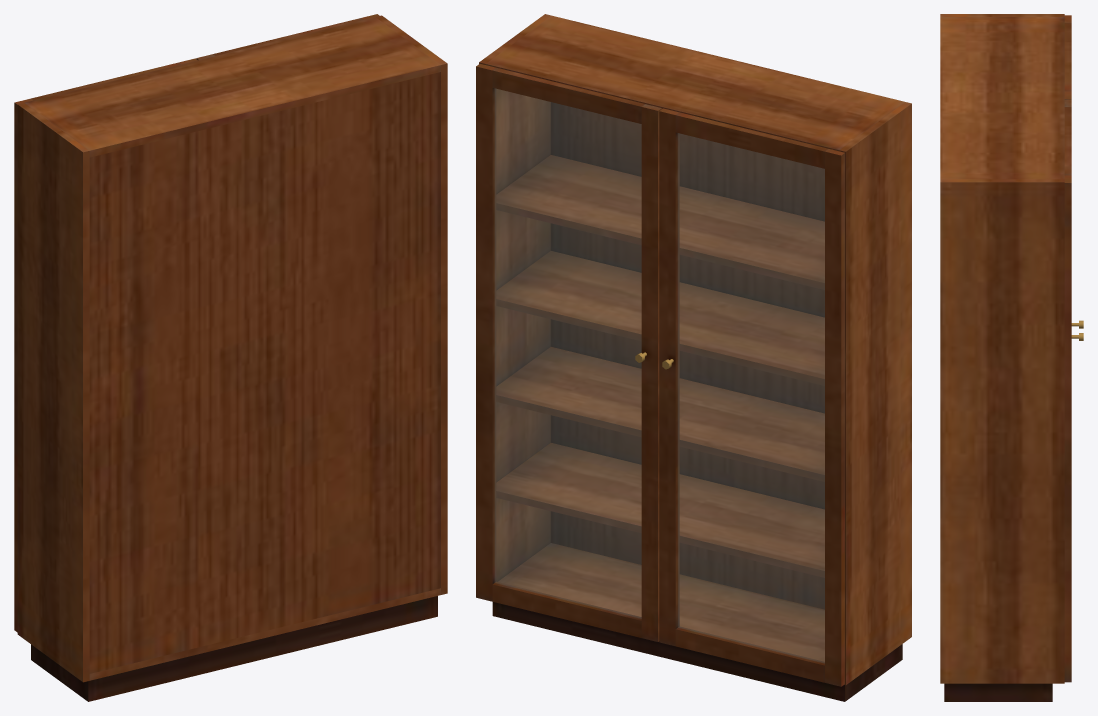
File: bookcase_glass_doors_lod1_web.glb
3 renders of one model, left to right at view 1: azimuth 30°, elevation 25°; view 2: azimuth 150°, elevation 25°; view 3: azimuth 270°, elevation 25°, orthographic. The views are drawn at different scales.
Visible parts, largest first — view 1: BookcaseGlassDoors_Body, Door_1_R_Mesh; view 2: BookcaseGlassDoors_Body, Glass_Door_1_R, Glass_Door_1_L, Door_1_R_Mesh, Door_1_L_Mesh; view 3: BookcaseGlassDoors_Body, Door_1_L_Mesh, Door_1_R_Mesh.
Boxes of the visible parts, box(x1,y1,x2,y2) form: BookcaseGlassDoors_Body: box(17, 15, 447, 701); Door_1_R_Mesh: box(14, 58, 197, 632); BookcaseGlassDoors_Body: box(479, 14, 911, 701); Glass_Door_1_R: box(678, 133, 824, 662); Glass_Door_1_L: box(495, 88, 641, 618); Door_1_R_Mesh: box(659, 108, 844, 686); Door_1_L_Mesh: box(476, 64, 661, 641); BookcaseGlassDoors_Body: box(940, 14, 1064, 701); Door_1_L_Mesh: box(1064, 99, 1071, 682); Door_1_R_Mesh: box(1064, 15, 1071, 99).
Bounding box in the file's own units: 1 × 1.45 × 0.3599.
3 materials, 2 textured.
